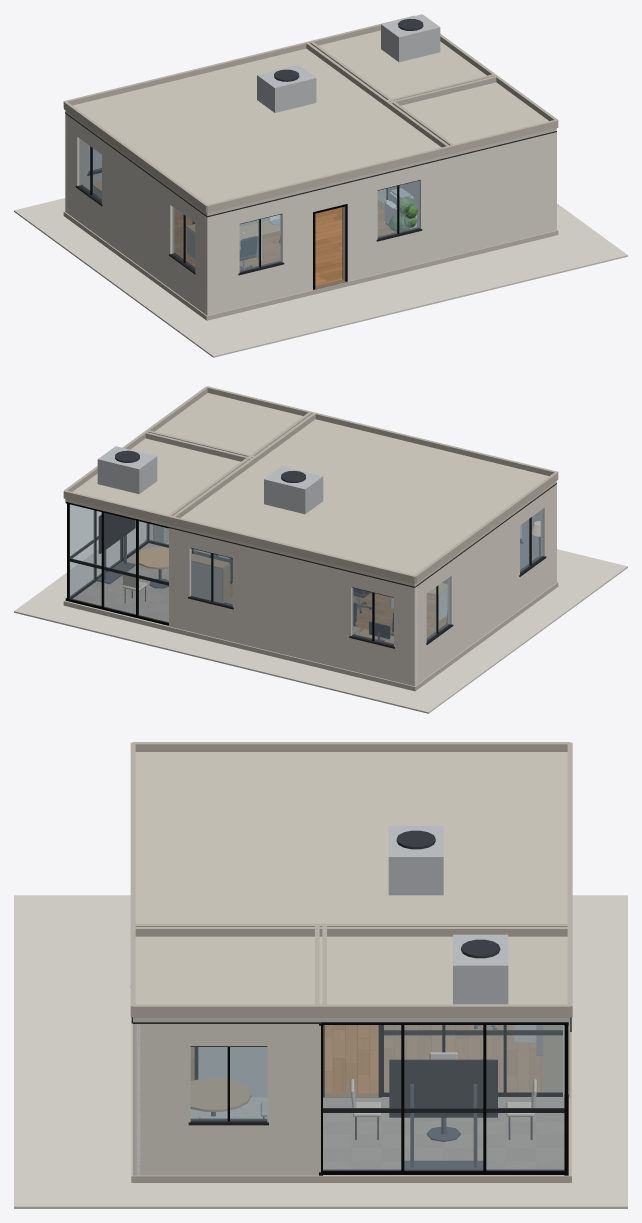
File: startup-enxuta.glb
The picture shows the model from 3 angles, top to bottom: view 1: azimuth 30°, elevation 25°; view 2: azimuth 150°, elevation 25°; view 3: azimuth 270°, elevation 25°; orthographic projection. The views are drawn at different scales.
Parts seen in each view (by area): view 1: teto_malha, paredes_malha, terreno_malha, janelas_malha, piso_madeira_malha, laje_malha, esquadrias_malha, paredes_topo_malha, mesa-bancada_malha, vaso-ficus_malha; view 2: teto_malha, paredes_malha, terreno_malha, divisorias_vidro_malha, janelas_malha, esquadrias_malha, laje_malha, piso_carpete_malha, estante_malha, piso_madeira_malha, tv-pedestal_malha, mesa-reuniao-redonda_malha (+1 smaller); view 3: teto_malha, terreno_malha, divisorias_vidro_malha, paredes_malha, piso_carpete_malha, piso_madeira_malha, esquadrias_malha, tv-pedestal_malha, janelas_malha, laje_malha, mesa-reuniao-redonda_malha, estante_malha (+1 smaller).
Part boxes in pixels (<box>): teto_malha: <box>63,14,558,215</box>; paredes_malha: <box>65,113,556,315</box>; terreno_malha: <box>14,198,627,357</box>; janelas_malha: <box>79,138,419,271</box>; piso_madeira_malha: <box>174,206,395,285</box>; laje_malha: <box>63,211,558,320</box>; esquadrias_malha: <box>75,146,422,289</box>; paredes_topo_malha: <box>65,112,556,217</box>; mesa-bancada_malha: <box>186,217,279,259</box>; vaso-ficus_malha: <box>389,197,417,231</box>; teto_malha: <box>63,386,558,586</box>; paredes_malha: <box>149,484,556,686</box>; terreno_malha: <box>14,521,627,713</box>; divisorias_vidro_malha: <box>69,504,230,622</box>; janelas_malha: <box>191,509,542,645</box>; esquadrias_malha: <box>65,502,546,648</box>; laje_malha: <box>63,582,558,691</box>; piso_carpete_malha: <box>73,543,168,622</box>; estante_malha: <box>191,554,229,603</box>; piso_madeira_malha: <box>230,583,446,637</box>; tv-pedestal_malha: <box>96,513,135,584</box>; mesa-reuniao-redonda_malha: <box>135,547,168,588</box>; teto_malha: <box>130,742,572,1022</box>; terreno_malha: <box>14,895,627,1208</box>; divisorias_vidro_malha: <box>323,1025,564,1170</box>; paredes_malha: <box>133,1022,570,1175</box>; piso_carpete_malha: <box>323,1097,564,1169</box>; piso_madeira_malha: <box>191,1025,542,1093</box>; esquadrias_malha: <box>131,1017,571,1175</box>; tv-pedestal_malha: <box>389,1059,497,1169</box>; janelas_malha: <box>190,1047,267,1120</box>; laje_malha: <box>131,1017,571,1182</box>; mesa-reuniao-redonda_malha: <box>191,1078,251,1115</box>; estante_malha: <box>543,1025,562,1091</box>.
Size of the model in its own units: 12 by 3.81 by 10.
Materials: 17 (5 with a texture image).
